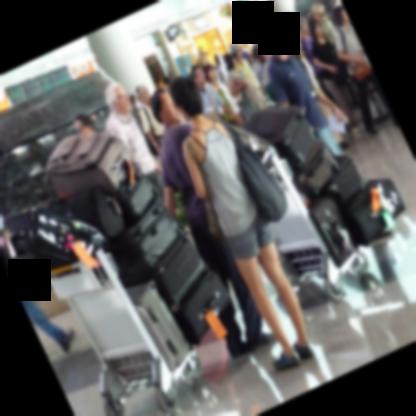backpack: (223, 121, 288, 222), (332, 27, 349, 86)
handbag: (218, 120, 291, 223), (230, 69, 247, 106), (351, 63, 371, 80)
suitcase: (0, 206, 111, 272), (118, 229, 206, 311), (43, 130, 135, 200), (111, 195, 183, 276), (243, 105, 320, 170), (170, 268, 233, 346), (341, 178, 405, 246), (306, 197, 359, 268), (292, 139, 340, 202), (320, 153, 367, 209), (120, 175, 155, 222)
